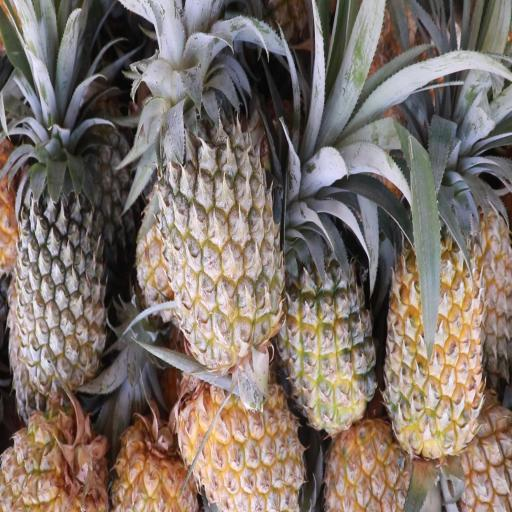------------------------------: (153, 30, 289, 381), (271, 190, 376, 442)
Pineapple - v8 v1: (380, 162, 486, 462), (175, 366, 310, 512)
